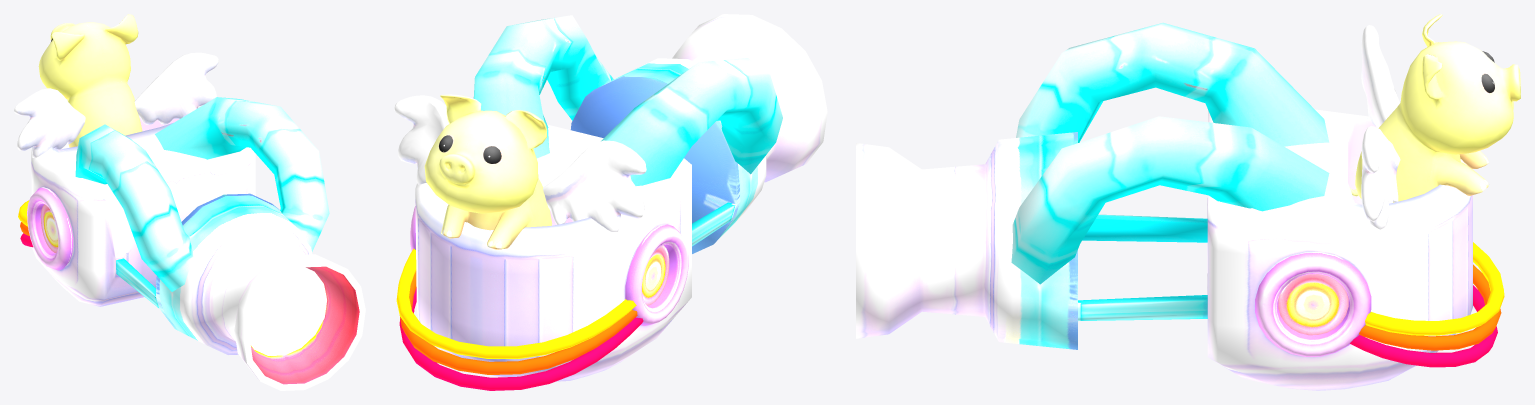
Rendered from cannon.glb.
3 views of the same model, side by side, from view 1: azimuth 30°, elevation 25°; view 2: azimuth 150°, elevation 25°; view 3: azimuth 270°, elevation 25° (orthographic). The views are drawn at different scales.
Visible parts, largest first — view 1: cannon.001, BezierCurve.003, basket2.001, Pig.001, Torus.003; view 2: basket2.001, Pig.001, BezierCurve.003, cannon.001, handle, Torus.003, handle.001, handle.002; view 3: basket2.001, BezierCurve.003, cannon.001, Pig.001, Torus.003, handle, handle.002, handle.001.
Part boxes in pixels (x1,y1,x2,y2): cannon.001: (156, 193, 365, 390); BezierCurve.003: (75, 97, 329, 291); basket2.001: (31, 114, 255, 308); Pig.001: (14, 14, 218, 157); Torus.003: (27, 187, 73, 270); basket2.001: (415, 124, 736, 381); Pig.001: (394, 94, 646, 249); BezierCurve.003: (473, 15, 782, 185); cannon.001: (570, 14, 827, 253); handle: (396, 248, 636, 358); Torus.003: (410, 206, 688, 325); handle.001: (399, 288, 643, 390); handle.002: (400, 271, 637, 374); basket2.001: (1078, 109, 1472, 390); BezierCurve.003: (1011, 22, 1329, 284); cannon.001: (856, 132, 1077, 349); Pig.001: (1349, 14, 1520, 229); Torus.003: (1255, 252, 1371, 356); handle: (1365, 242, 1504, 335); handle.002: (1359, 264, 1501, 350); handle.001: (1350, 285, 1497, 367).
Bounding box in the file's own units: 0.5577 × 0.5882 × 1.14.
Materials: 7 (3 with a texture image).
